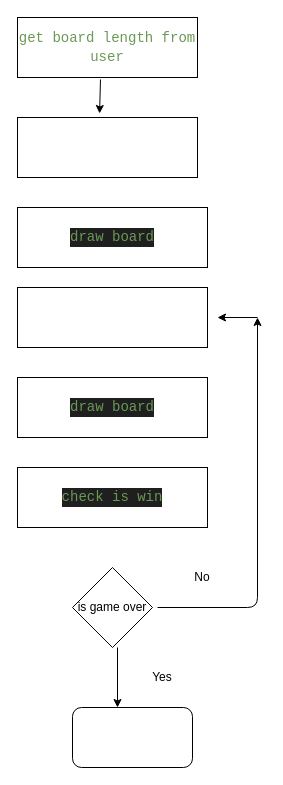
The diagram is 283 pixels wide and 785 high, and some of its shapes have lost their labels. The shapes that lost their labels are listed below. From the top down, each one's centre as x and y in pixels, then its label:
pixel 107 147: create board
pixel 112 317: get row \ col index from user
pixel 132 737: message who won \ is draw
